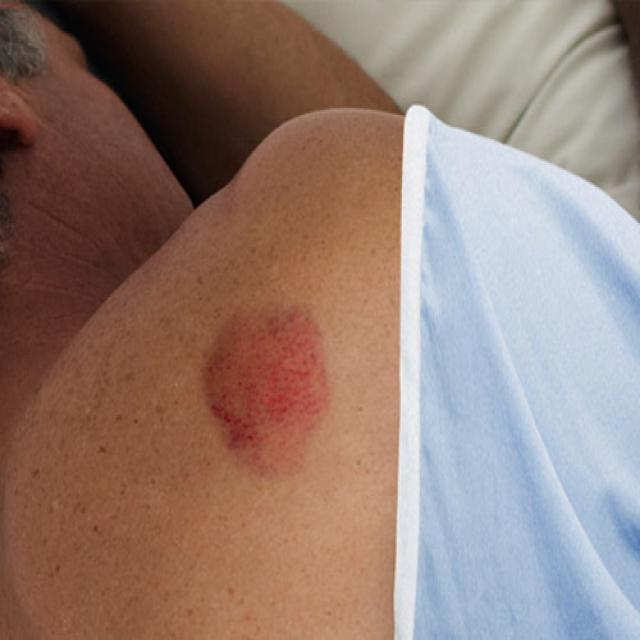DTI: (202, 311, 332, 478)
